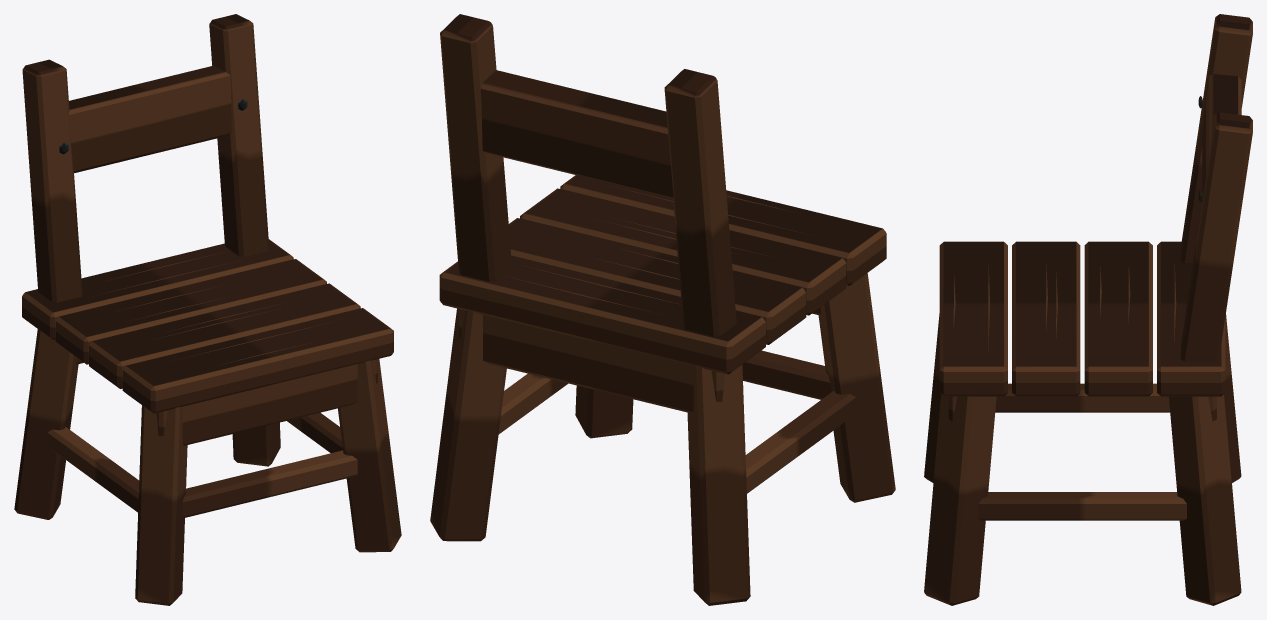
Rendered from Chair_Simple.fbx.
3 views of the same model, side by side, from view 1: azimuth 30°, elevation 25°; view 2: azimuth 150°, elevation 25°; view 3: azimuth 270°, elevation 25° (orthographic). The views are drawn at different scales.
Visible parts, largest first — view 1: Chair_Simple; view 2: Chair_Simple; view 3: Chair_Simple.
Part boxes in pixels (x1,y1,x2,y2): Chair_Simple: [14, 14, 401, 605]; Chair_Simple: [430, 14, 895, 605]; Chair_Simple: [924, 14, 1252, 605].
Size of the model in its own units: 0.6501 by 1.03 by 0.6494.
2 materials, 2 textured.
